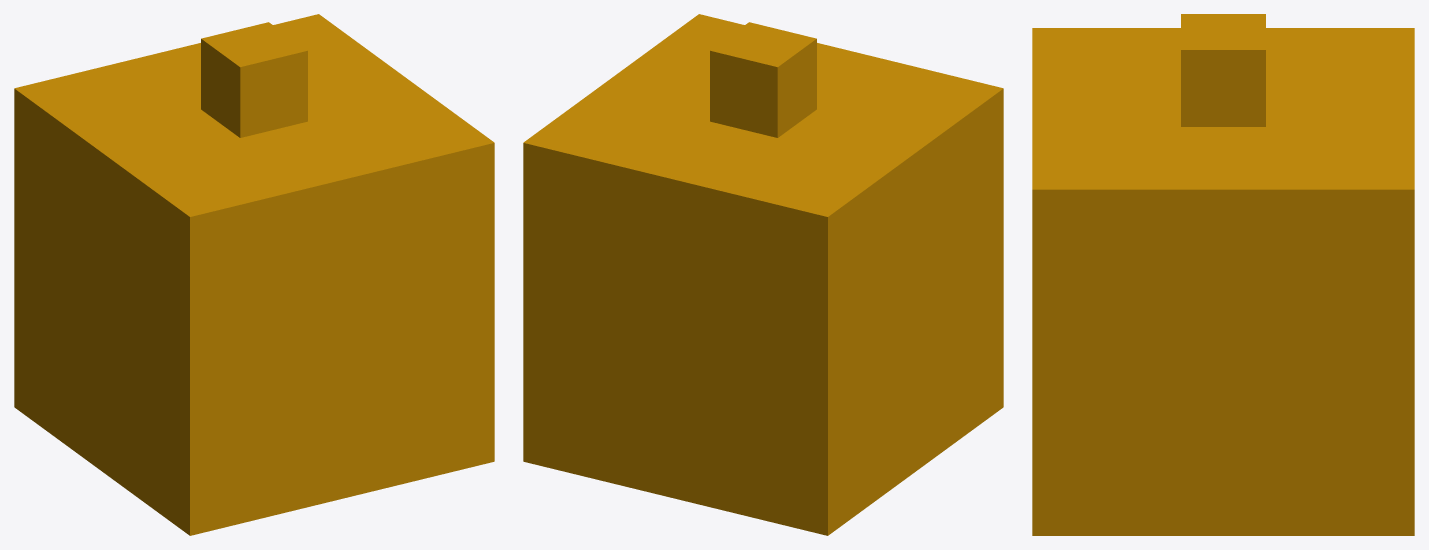
3 renders of one model, left to right at view 1: azimuth 30°, elevation 25°; view 2: azimuth 150°, elevation 25°; view 3: azimuth 270°, elevation 25°, orthographic. The views are drawn at different scales.
Visible parts, largest first — view 1: 1101.SLDPRT; view 2: 1101.SLDPRT; view 3: 1101.SLDPRT.
Part boxes in pixels (left/top/right/bottom): 1101.SLDPRT: left=14, top=14, right=494, bottom=535; 1101.SLDPRT: left=523, top=14, right=1003, bottom=535; 1101.SLDPRT: left=1032, top=14, right=1414, bottom=535.
Bounding box in the file's own units: 0.18 × 0.22 × 0.18.
